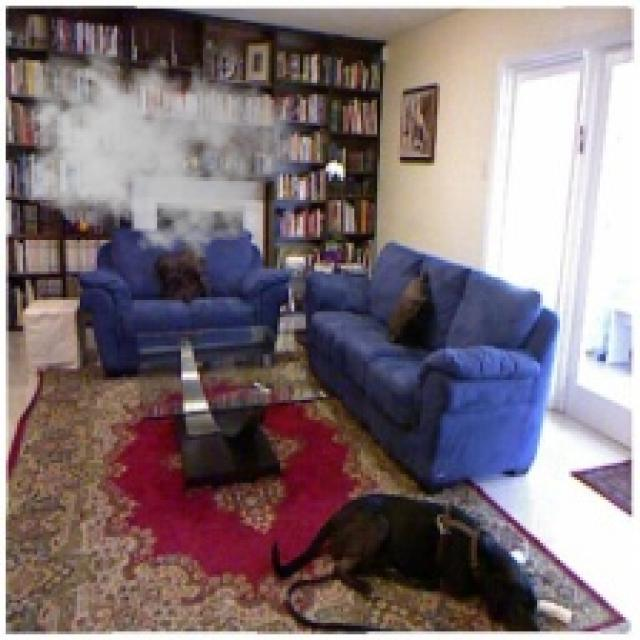smoke: (12, 37, 294, 260)
